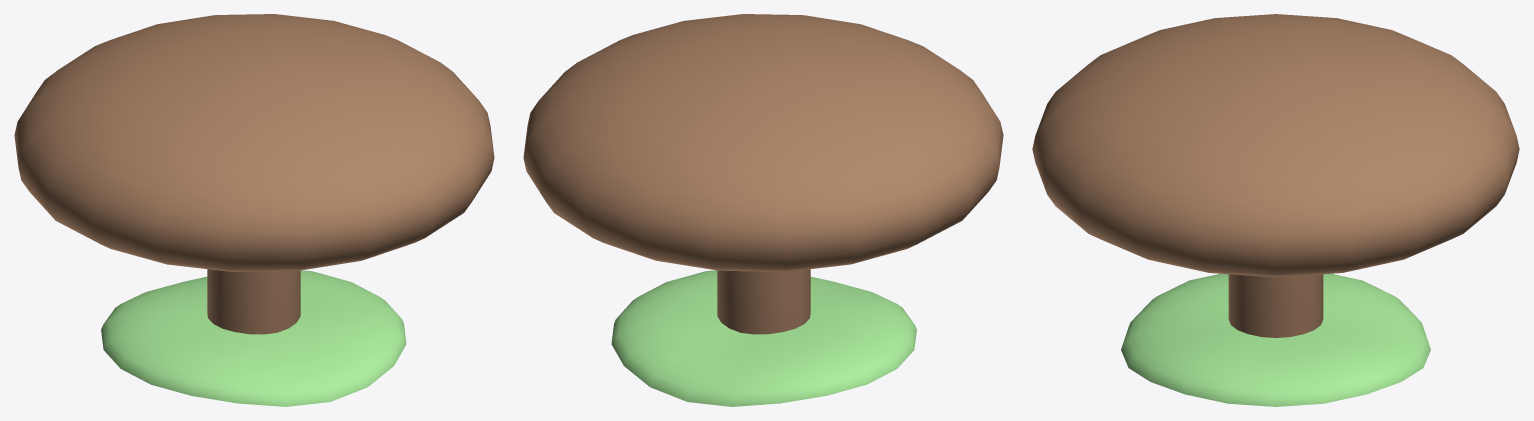
The model's file is Platzhalter_Pilz.fbx.
3 views of the same model, side by side, from view 1: azimuth 30°, elevation 25°; view 2: azimuth 150°, elevation 25°; view 3: azimuth 270°, elevation 25° (orthographic).
Parts seen in each view (by area): view 1: Platzhalter_Pilz; view 2: Platzhalter_Pilz; view 3: Platzhalter_Pilz.
Part boxes in pixels (bbox=[...]): Platzhalter_Pilz: bbox=[14, 14, 494, 406]; Platzhalter_Pilz: bbox=[523, 14, 1003, 406]; Platzhalter_Pilz: bbox=[1032, 14, 1519, 406].
Size of the model in its own units: 48.46 by 32.44 by 48.46.
